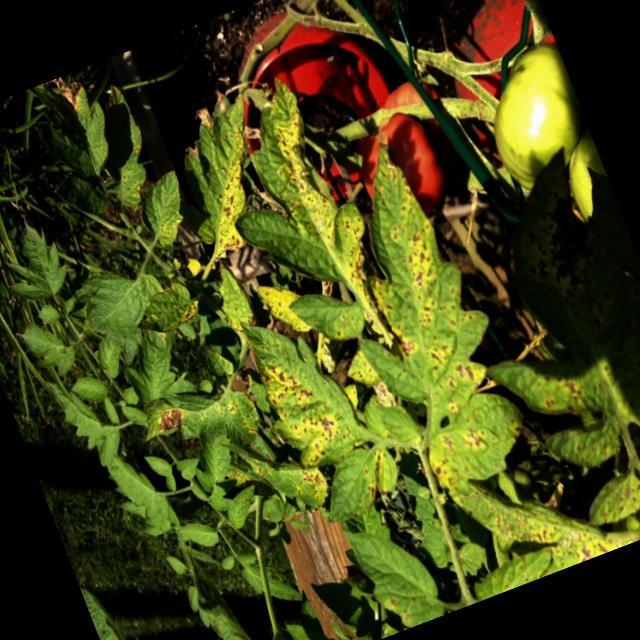Tomato Septoria spot leaf: (286, 126, 546, 510), (419, 136, 640, 492), (190, 66, 388, 327), (455, 440, 634, 594), (148, 89, 298, 268), (234, 301, 370, 481), (132, 366, 269, 480), (220, 412, 334, 535), (343, 506, 449, 638), (22, 66, 128, 195), (71, 78, 168, 216), (65, 250, 176, 355), (307, 436, 409, 528), (288, 276, 372, 358), (127, 168, 201, 256), (126, 274, 206, 346), (467, 541, 561, 602), (204, 255, 261, 336), (575, 464, 640, 534), (50, 164, 111, 230)
Tomato healthy leaf: (44, 362, 130, 478), (0, 206, 77, 312), (104, 445, 177, 538), (13, 311, 83, 388), (184, 429, 248, 504), (238, 550, 304, 618), (90, 330, 134, 384), (178, 513, 223, 557), (67, 369, 111, 411), (144, 448, 176, 486), (174, 452, 207, 482)
